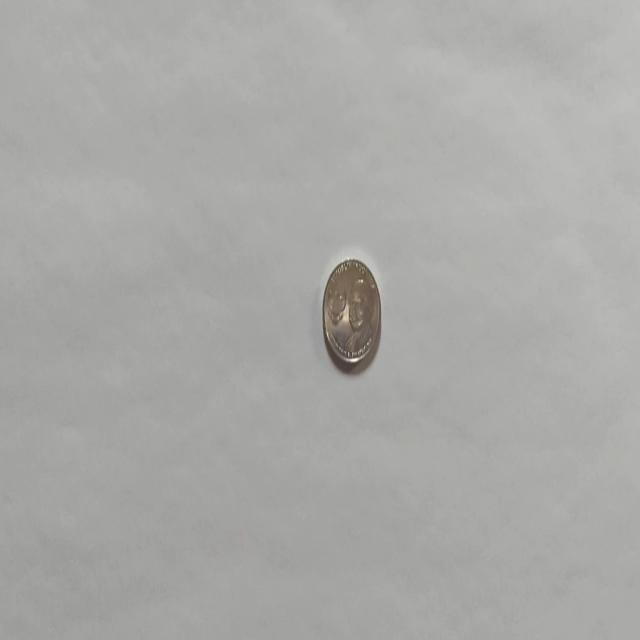lima ratus rupiah: (321, 256, 382, 368)
